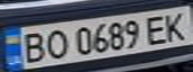0: (72, 24, 93, 56)
6: (90, 20, 112, 54)
8: (106, 19, 127, 52)
9: (121, 17, 145, 50)
B: (15, 29, 51, 64)
E: (139, 12, 172, 45)
K: (160, 8, 193, 42)
O: (39, 27, 69, 61)
